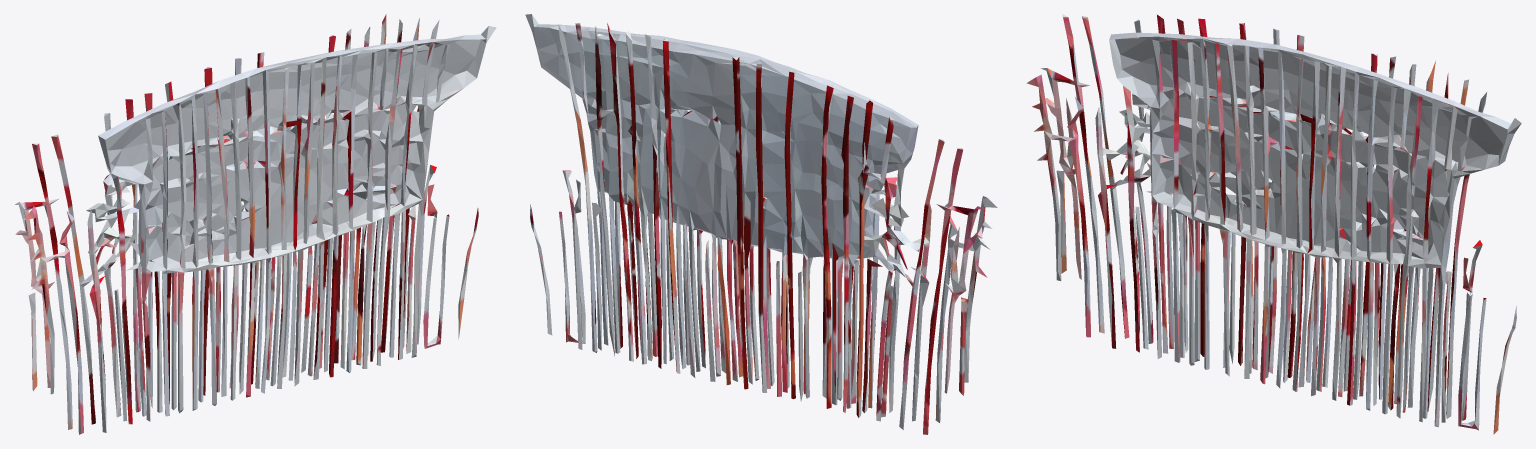
File: anfiteatro_cota.glb
3 renders of one model, left to right at view 1: azimuth 30°, elevation 25°; view 2: azimuth 150°, elevation 25°; view 3: azimuth 330°, elevation 25°, orthographic. The views are drawn at different scales.
Visible parts, largest first — view 1: tmp0apa16e8.ply; view 2: tmp0apa16e8.ply; view 3: tmp0apa16e8.ply.
Boxes of the visible parts, x1,y1,x2,y2 form: tmp0apa16e8.ply: [15, 14, 496, 434]; tmp0apa16e8.ply: [525, 14, 997, 434]; tmp0apa16e8.ply: [1026, 14, 1521, 434].
Size of the model in its own units: 1.94 by 1.32 by 0.1235.
Materials: 1 (1 with a texture image).
